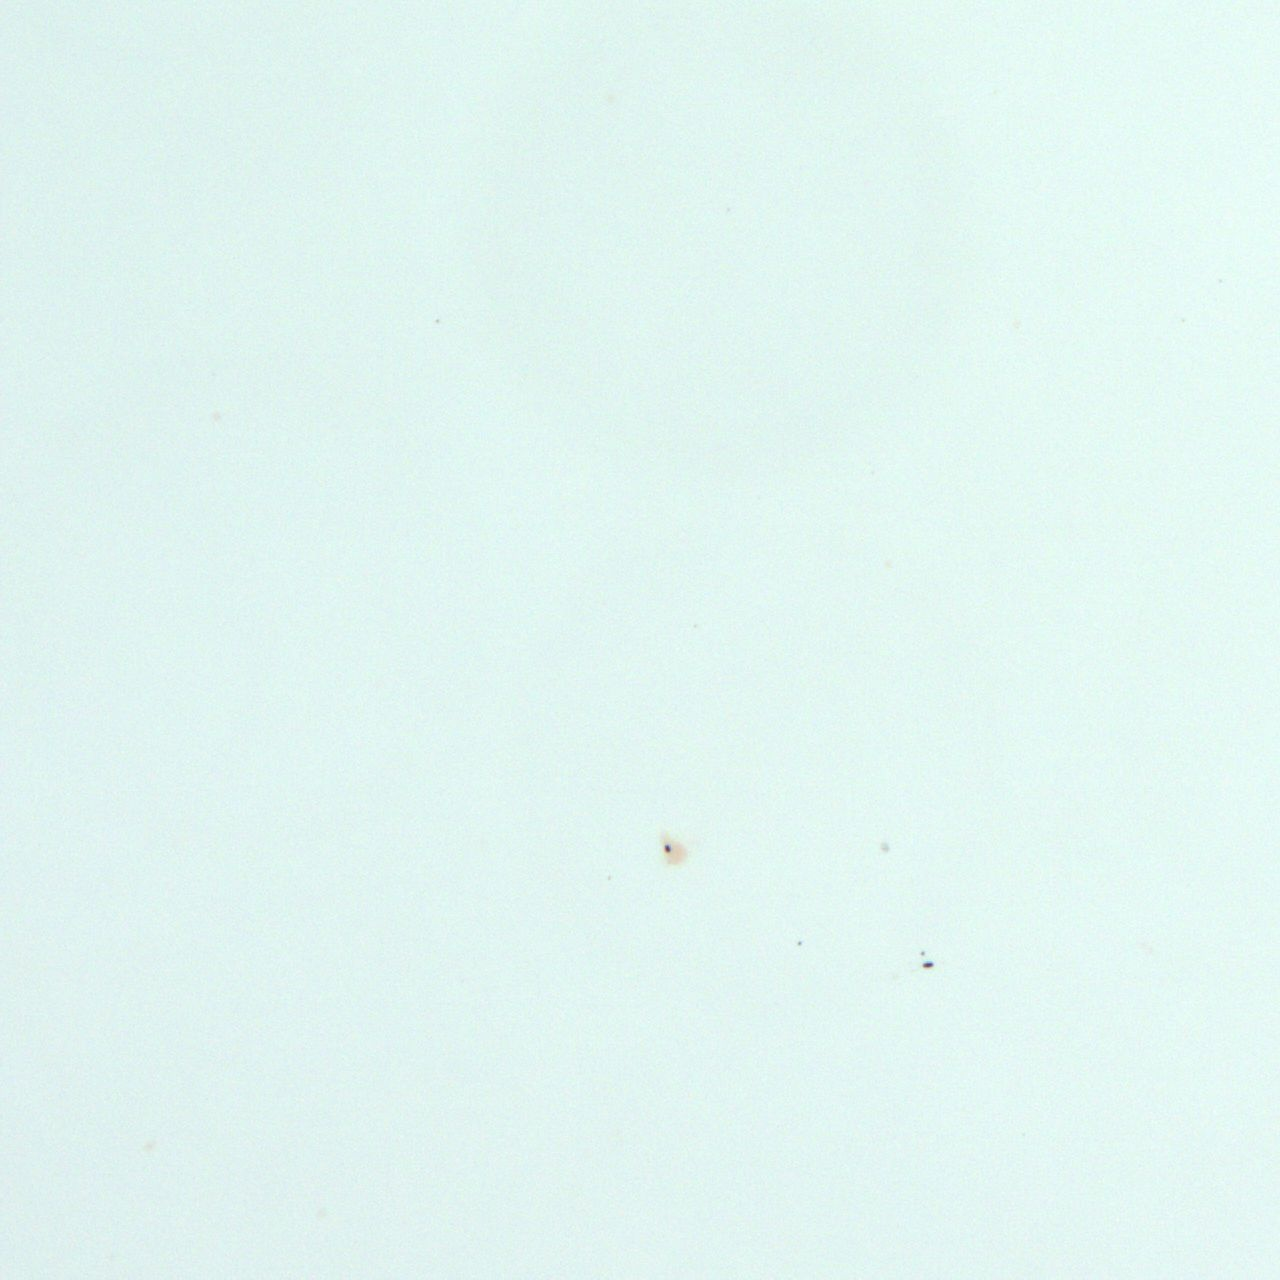dust: (918, 959, 933, 971), (793, 939, 804, 953), (662, 845, 672, 856), (880, 843, 891, 852), (918, 948, 928, 956)
